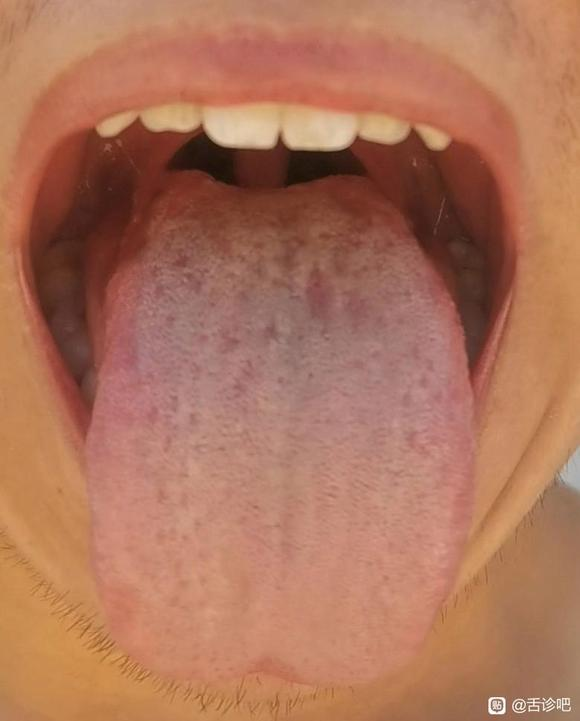baitaishe: (86, 169, 475, 686)
shenquao: (181, 171, 363, 210)
xinfeiao: (194, 630, 333, 687)
